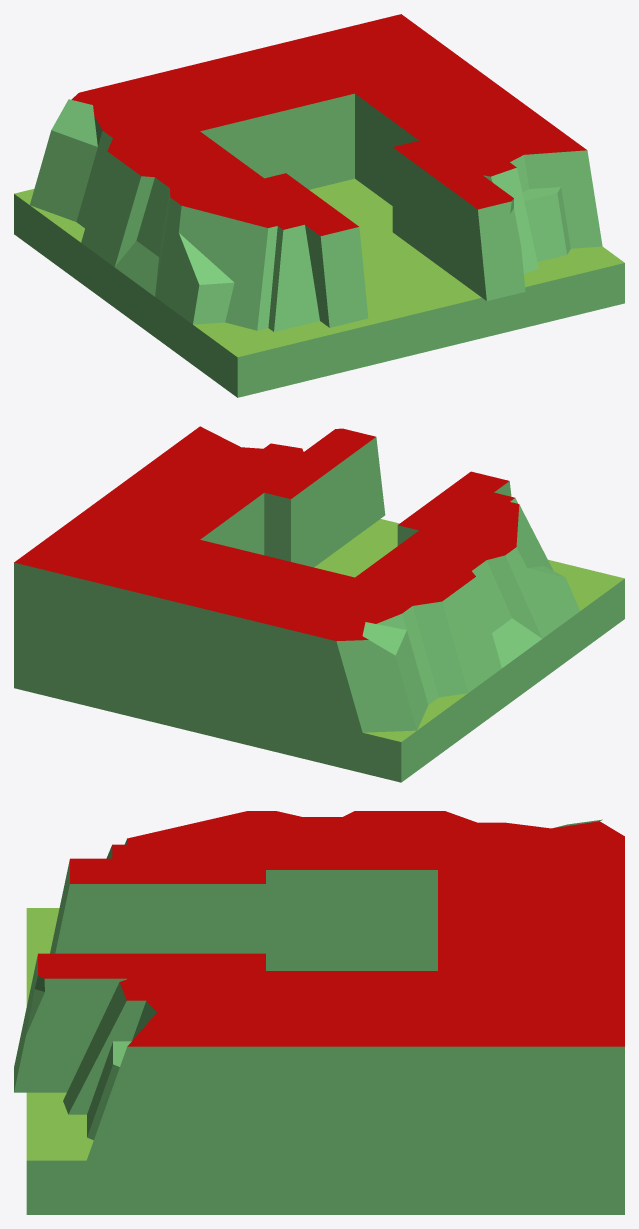
File: x_zem_1_9_cave1_rmstrd_mirror.fbx
The picture shows the model from 3 angles, top to bottom: view 1: azimuth 30°, elevation 25°; view 2: azimuth 150°, elevation 25°; view 3: azimuth 270°, elevation 25°; orthographic projection. The views are drawn at different scales.
Visible parts, largest first — view 1: x_zem_1_9_cave1_rmstrd_mirror1; view 2: x_zem_1_9_cave1_rmstrd_mirror1; view 3: x_zem_1_9_cave1_rmstrd_mirror1.
Part boxes in pixels (x1=…): x_zem_1_9_cave1_rmstrd_mirror1: x1=14, y1=14, x2=624, y2=397; x_zem_1_9_cave1_rmstrd_mirror1: x1=14, y1=426, x2=624, y2=782; x_zem_1_9_cave1_rmstrd_mirror1: x1=14, y1=811, x2=624, y2=1214.
Bounding box in the file's own units: 10 × 3.23 × 10.21.
